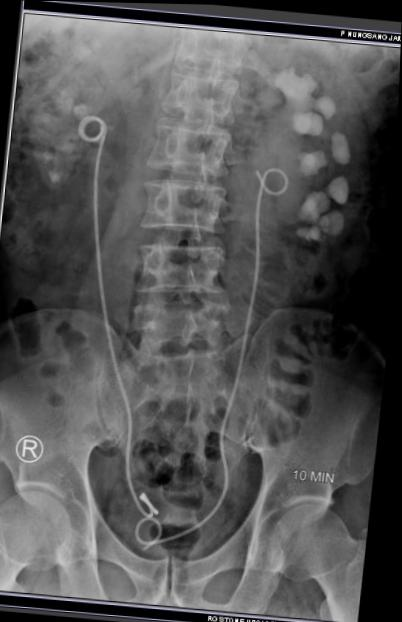vertebrae: (154, 48, 238, 116)
